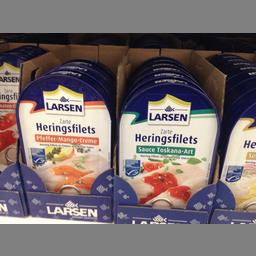fish: (118, 79, 220, 210), (15, 70, 113, 196)
